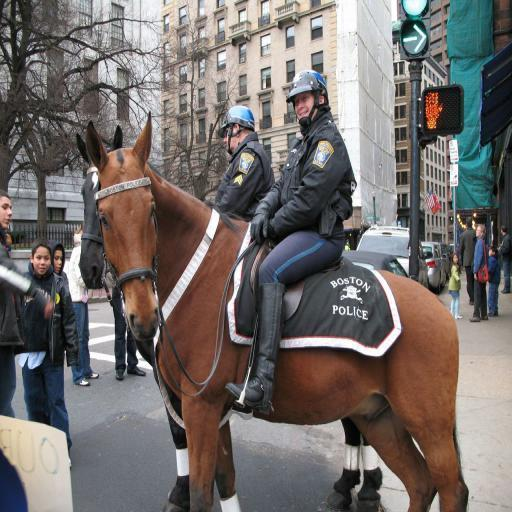horse: (86, 110, 470, 512), (76, 122, 384, 512)
